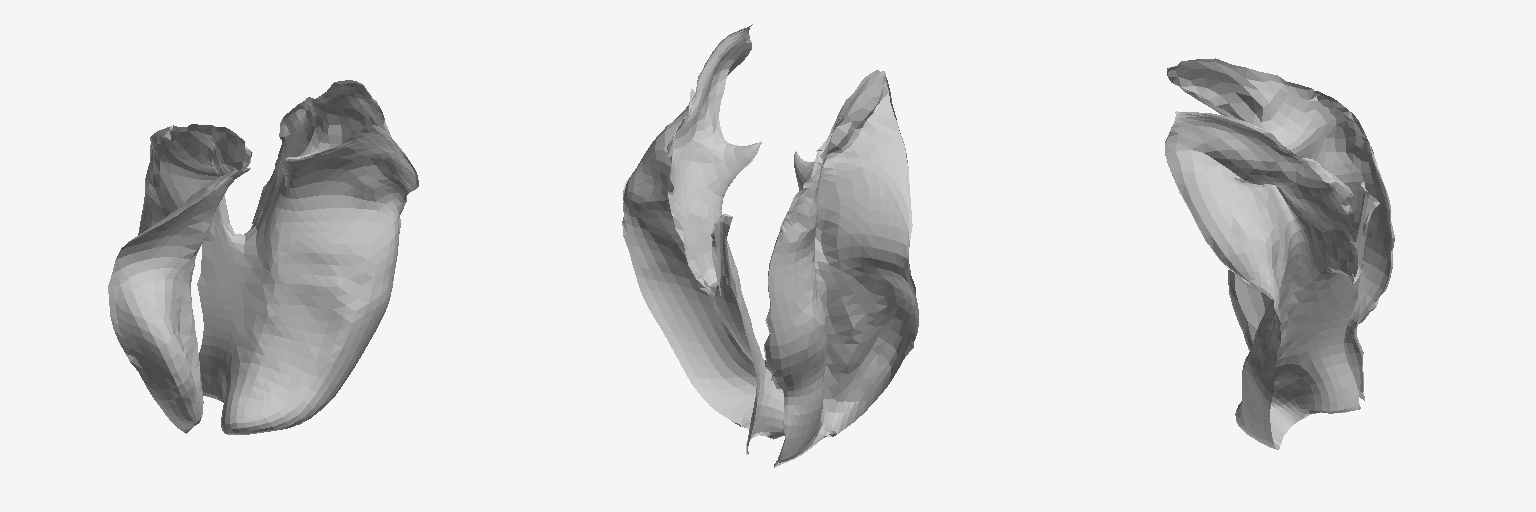
File: PalateUnilat_deepBed.obj
3 renders of one model, left to right at view 1: azimuth 30°, elevation 25°; view 2: azimuth 150°, elevation 25°; view 3: azimuth 270°, elevation 25°, orthographic.
Size of the model in its own units: 2.97 by 3.41 by 2.